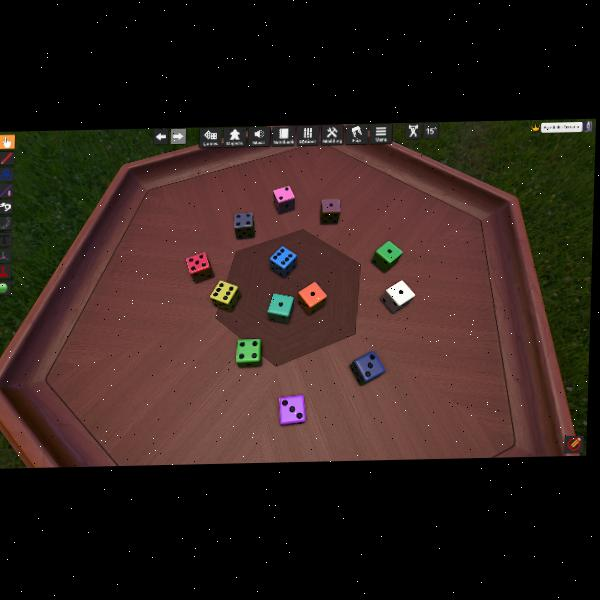d6: (349, 350, 384, 385), (380, 279, 413, 313), (297, 281, 327, 315), (370, 239, 400, 273), (209, 279, 238, 311), (277, 394, 306, 426), (269, 246, 297, 279), (267, 293, 294, 324), (186, 252, 212, 283), (236, 337, 262, 367), (272, 184, 295, 215), (233, 212, 255, 239), (320, 198, 341, 225)
